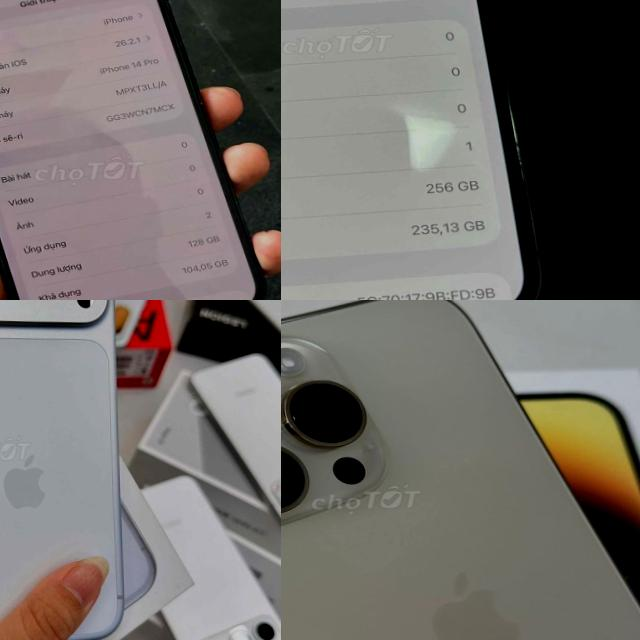gen_12_13: (281, 0, 548, 300)
gen_14: (281, 300, 640, 640), (0, 0, 268, 300)
gen_17: (0, 300, 145, 640)
